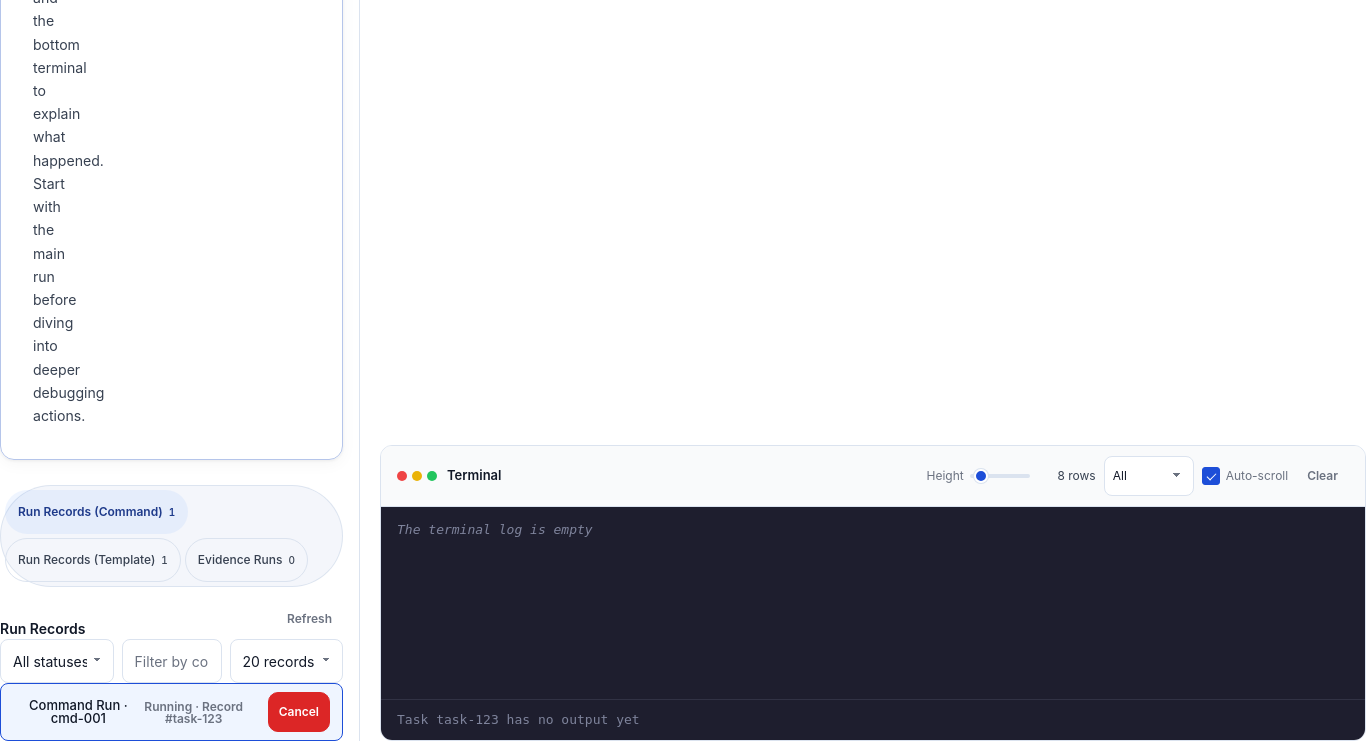
TaskCenterView waiting state branches › keeps supplemental input flow for non-provider waiting_user
The width and height of the screenshot is (1366, 741).
(page scrolled)
Click the tab "Run Records (Template) 1": (93, 560) [5, 538, 181, 582]
(page scrolled)
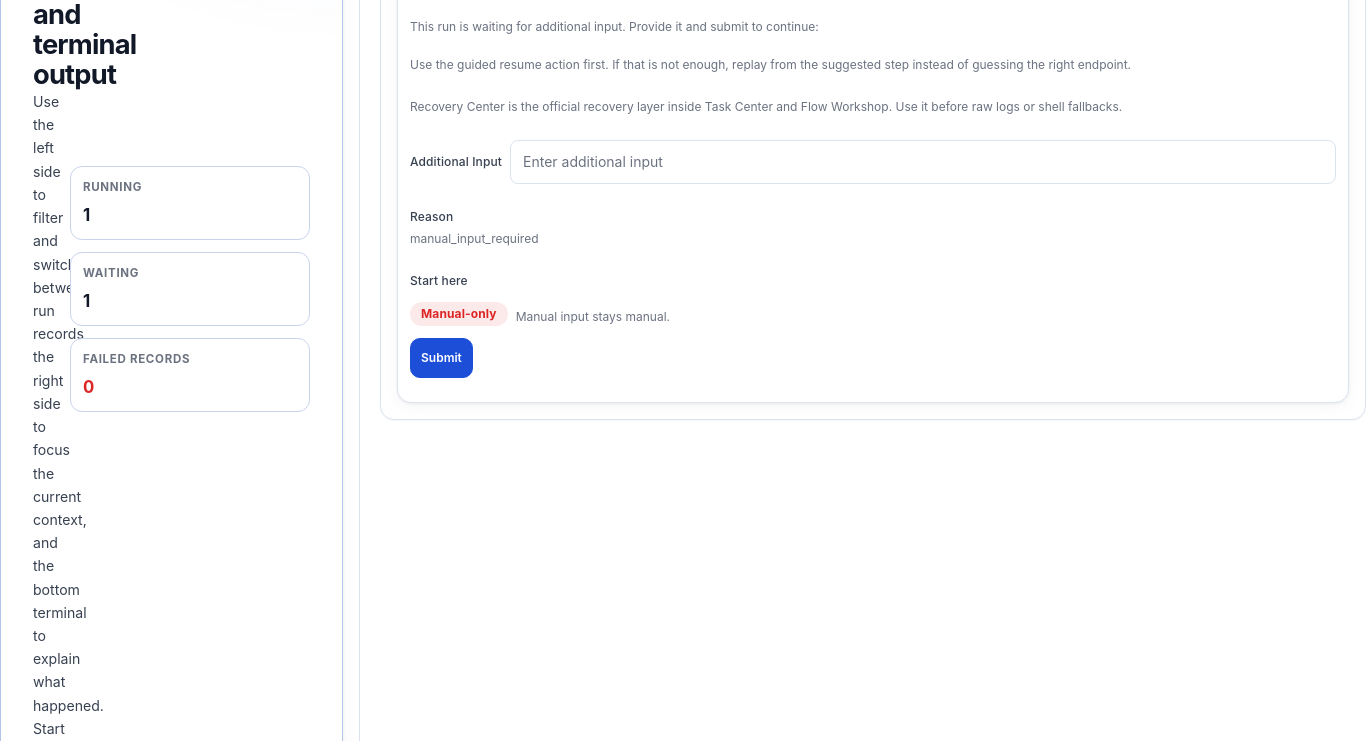
Result: the text "This run is waiting for additional input. Provide it and submit to continue:" is shown at [410, 19, 819, 34]
Result: the text "Recovery Center is the official recovery layer inside Task Center and Flow Workshop. Use it before raw logs or shell fallbacks." is shown at [410, 99, 1122, 114]
Result: the text "Manual-only" is shown at [410, 302, 508, 326]
